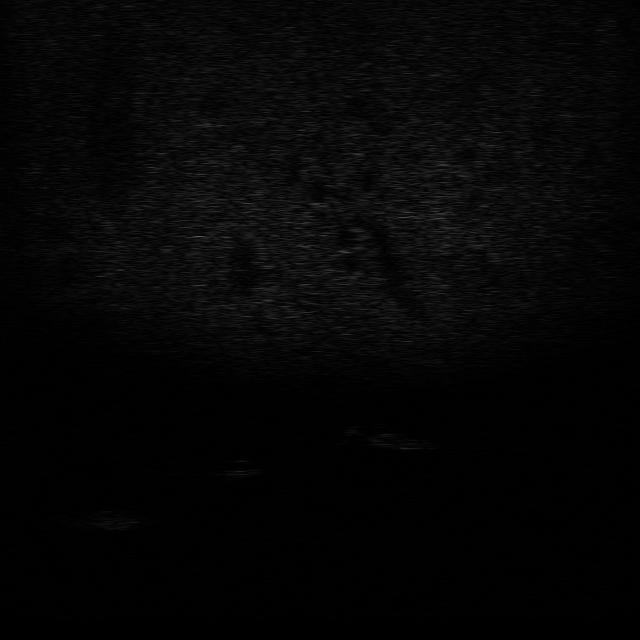ball: (219, 456, 260, 480)
circle cage: (58, 504, 138, 532)
human body: (332, 420, 432, 454)
